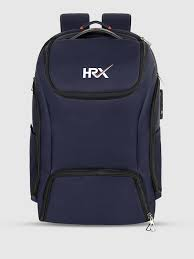backpack: (28, 12, 163, 228)
